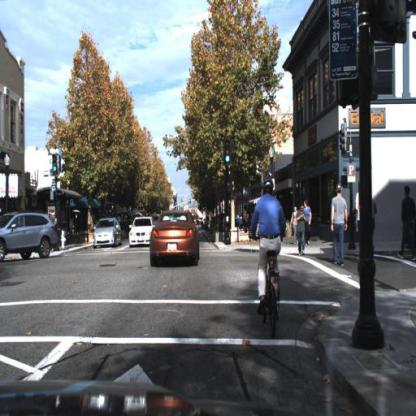biker: (253, 177, 289, 346)
car: (149, 209, 202, 268), (1, 211, 59, 260), (93, 216, 121, 252), (129, 216, 155, 247)
pedestrian: (329, 176, 351, 274), (331, 179, 349, 265), (398, 185, 416, 261), (354, 178, 364, 261), (370, 188, 380, 258), (296, 205, 307, 258)
trafficLight: (222, 137, 233, 169), (51, 154, 59, 176)
trafficLight-Green: (51, 154, 60, 177)
